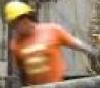hard-hat: (2, 0, 35, 24)
